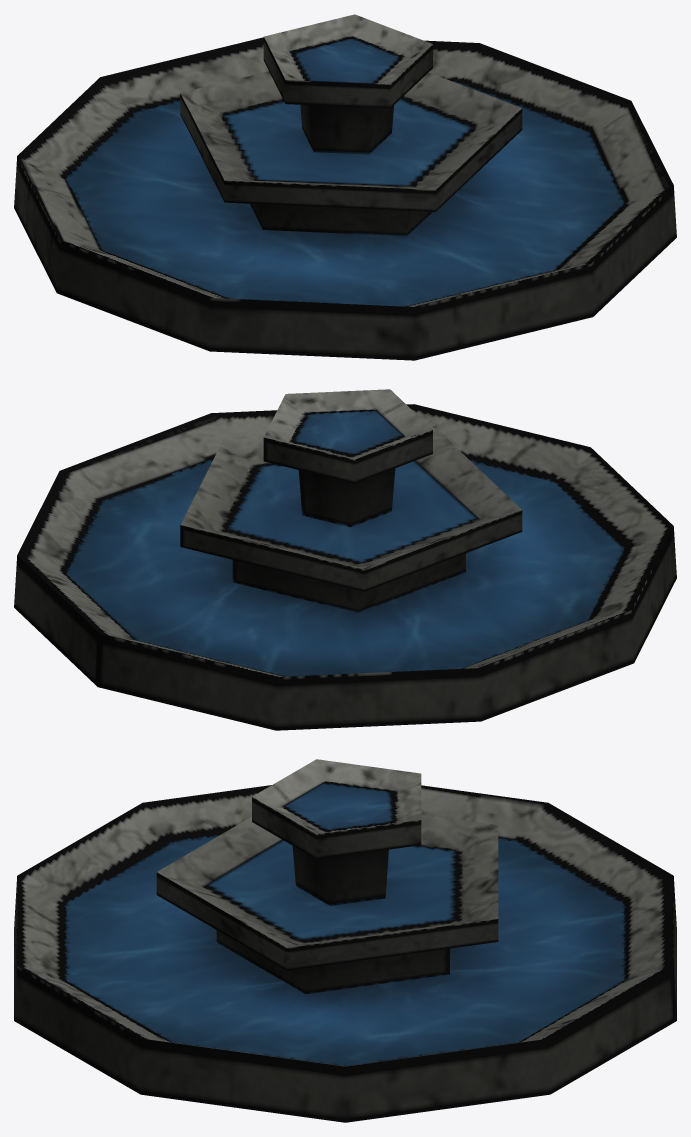
File: fountain.FBX
The picture shows the model from 3 angles, top to bottom: view 1: azimuth 30°, elevation 25°; view 2: azimuth 150°, elevation 25°; view 3: azimuth 270°, elevation 25°; orthographic projection. The views are drawn at different scales.
Visible parts, largest first — view 1: fountain; view 2: fountain; view 3: fountain.
Part boxes in pixels (left/top/right/bottom): fountain: left=14, top=14, right=676, bottom=360; fountain: left=14, top=389, right=676, bottom=730; fountain: left=14, top=759, right=676, bottom=1122.
Size of the model in its own units: 850 by 240 by 808.
